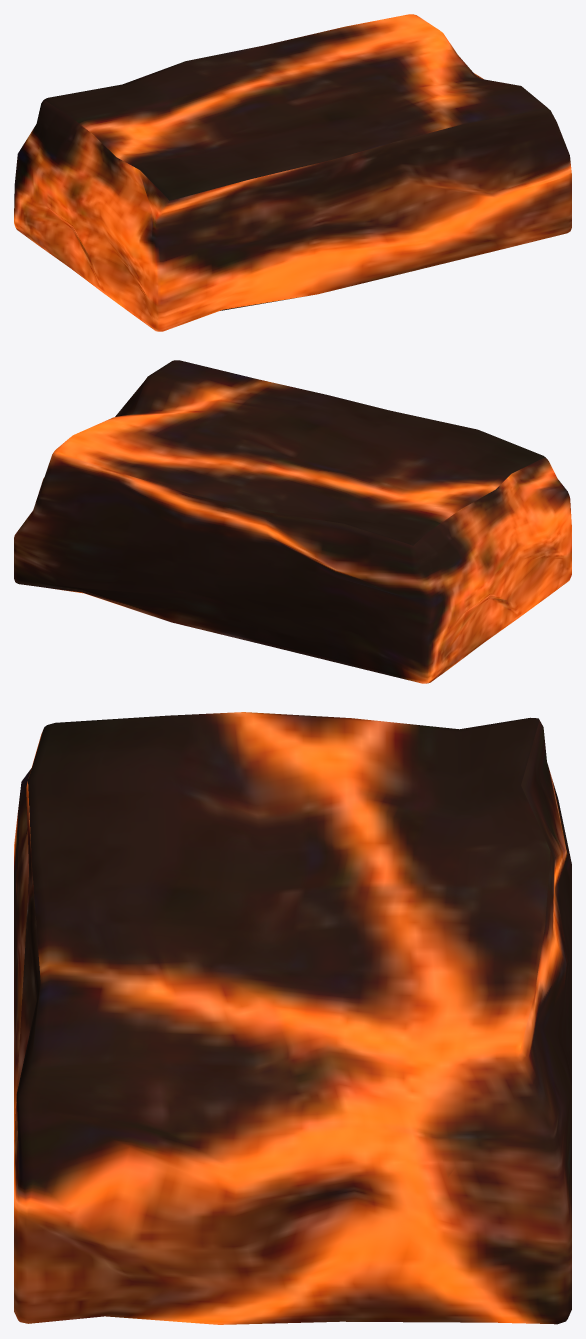
File: coal_billet.glb
The picture shows the model from 3 angles, top to bottom: view 1: azimuth 30°, elevation 25°; view 2: azimuth 150°, elevation 25°; view 3: azimuth 270°, elevation 25°; orthographic projection. The views are drawn at different scales.
Parts seen in each view (by area): view 1: coal_billet; view 2: coal_billet; view 3: coal_billet.
Boxes of the visible parts, x1,y1,x2,y2 form: coal_billet: [14, 14, 571, 331]; coal_billet: [14, 360, 571, 683]; coal_billet: [14, 712, 571, 1324].
Bounding box in the file's own units: 0.23 × 0.07 × 0.14.
Materials: 1 (1 with a texture image).
